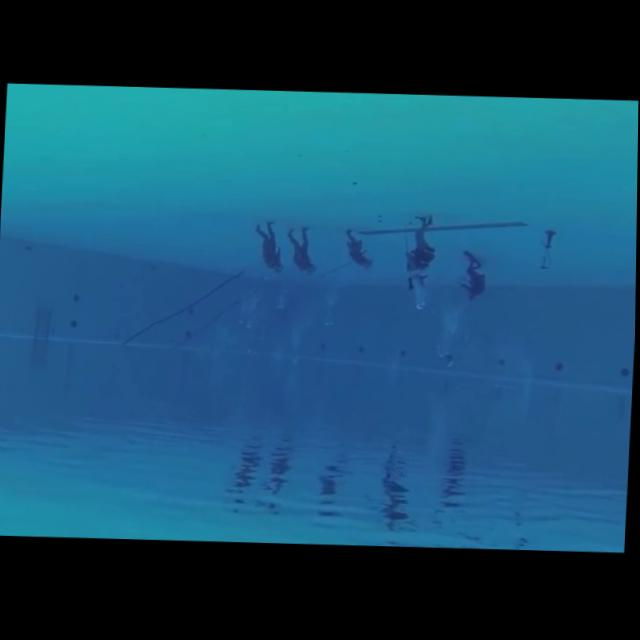human: (402, 210, 441, 277), (251, 213, 289, 281), (458, 246, 492, 309), (285, 225, 322, 280), (341, 225, 380, 274)
